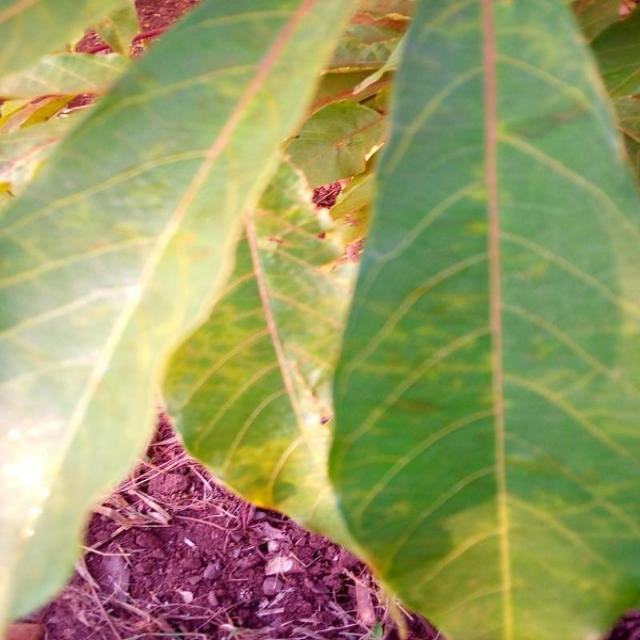cassava leaf: (2, 0, 366, 634), (326, 0, 640, 638)
